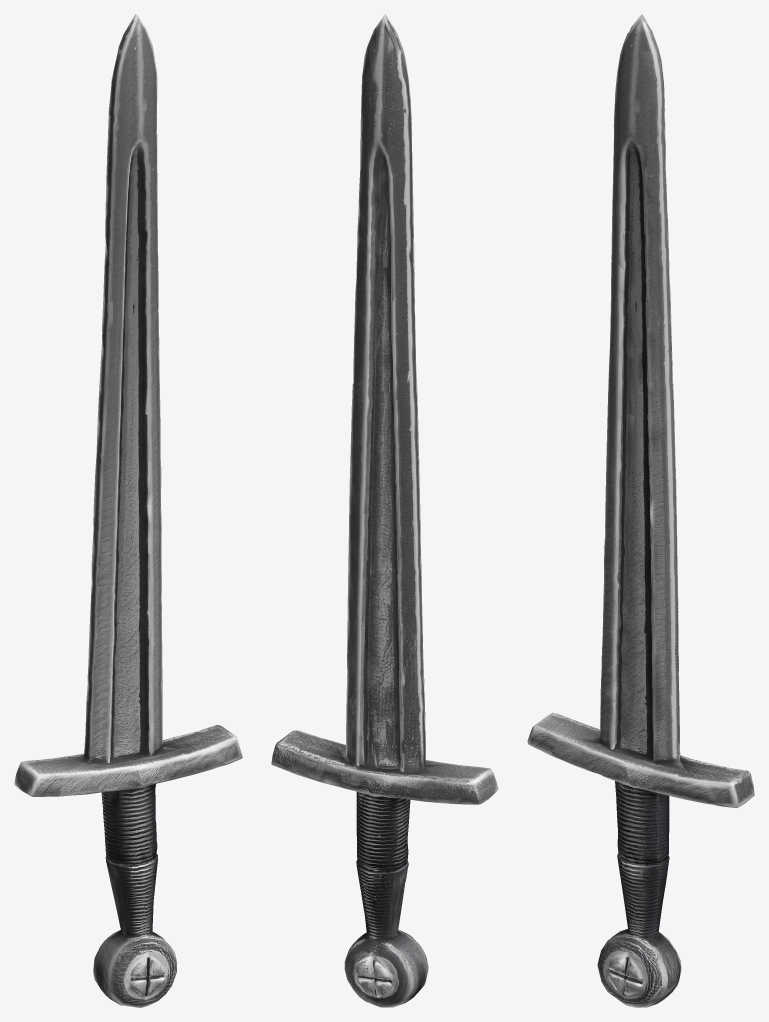
Rendered from dagger.glb.
The picture shows the model from 3 angles, left to right: view 1: azimuth 30°, elevation 25°; view 2: azimuth 150°, elevation 25°; view 3: azimuth 330°, elevation 25°; orthographic projection.
Bounding box in the file's own units: 0.0994 × 0.442 × 0.0271.
Materials: 1 (1 with a texture image).
